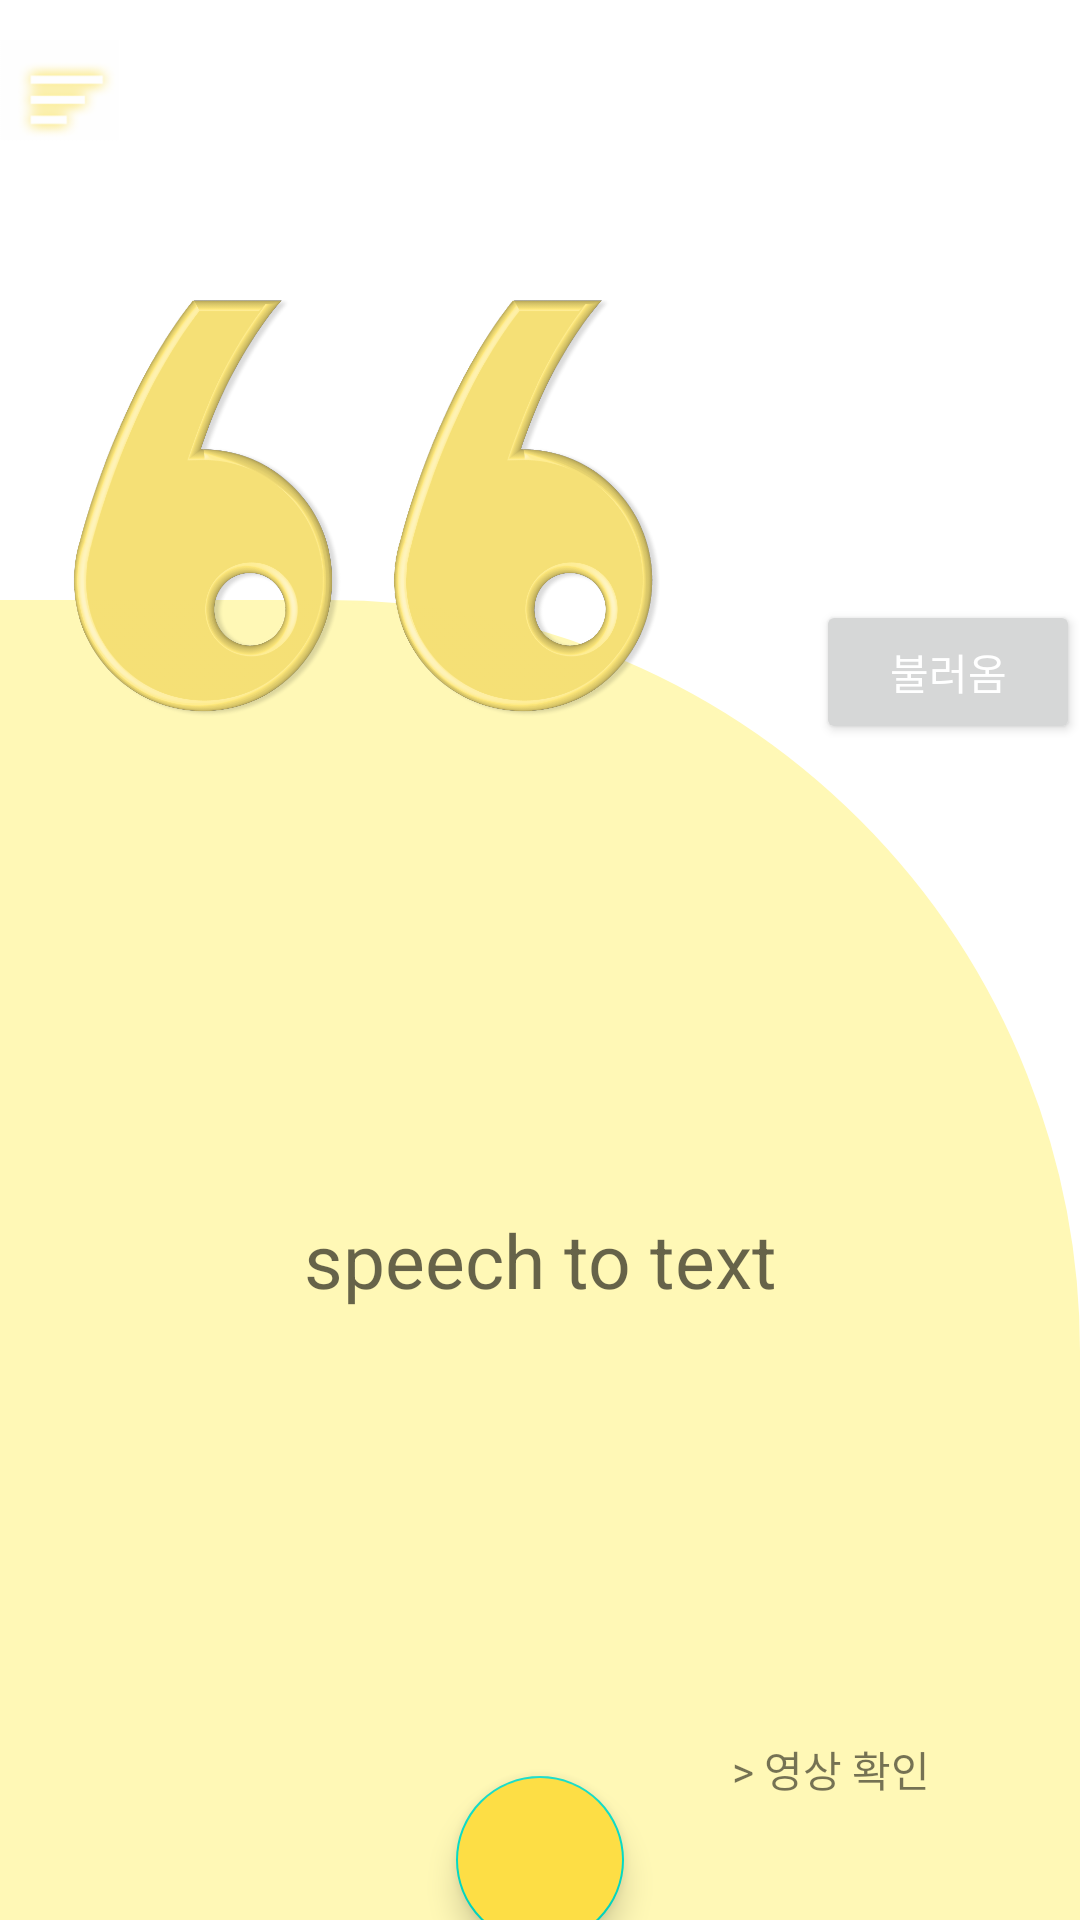

Icons on this 1080px x 1920px Android screen, each with its box as (x1, y1, x2, y2):
menu: (26, 67, 108, 132)
